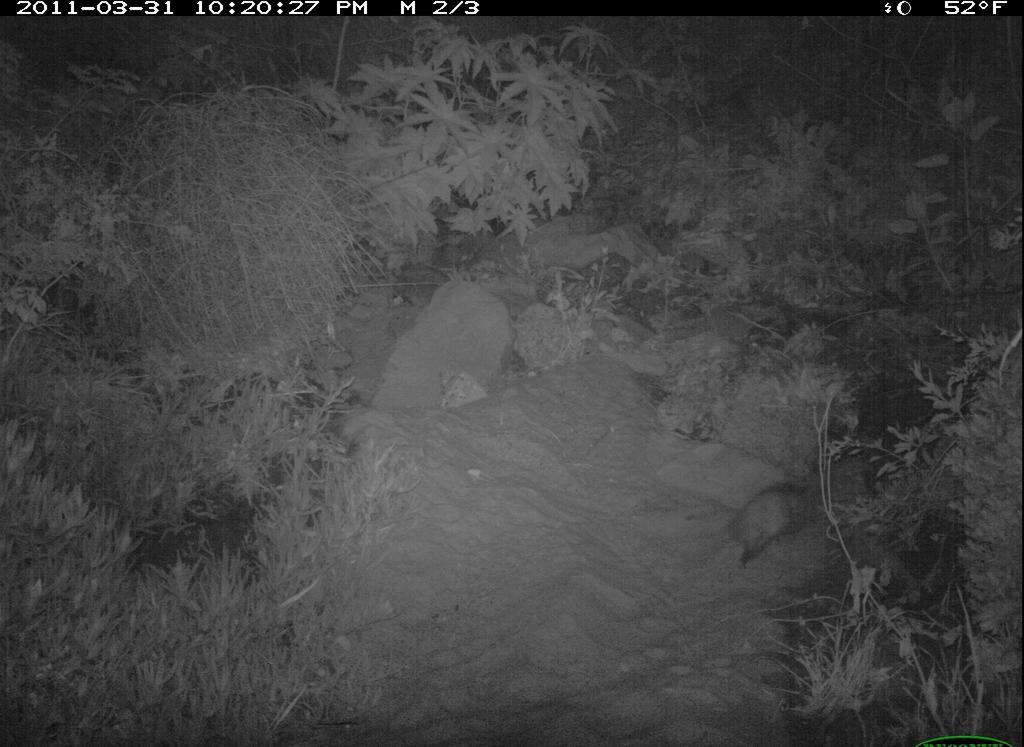opossum: (698, 459, 830, 585)
